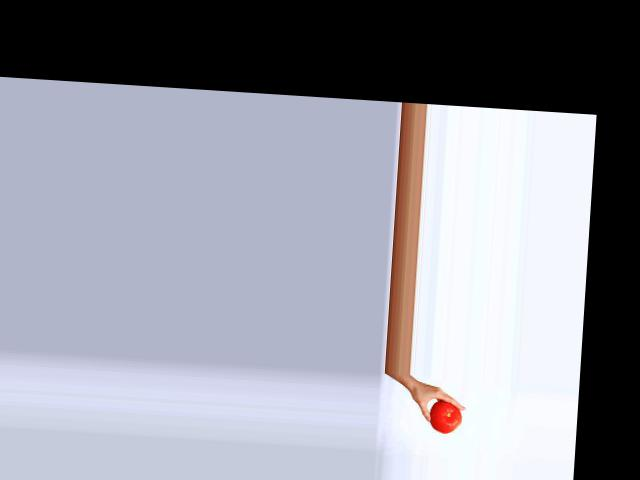tomato: (429, 400, 463, 434)
